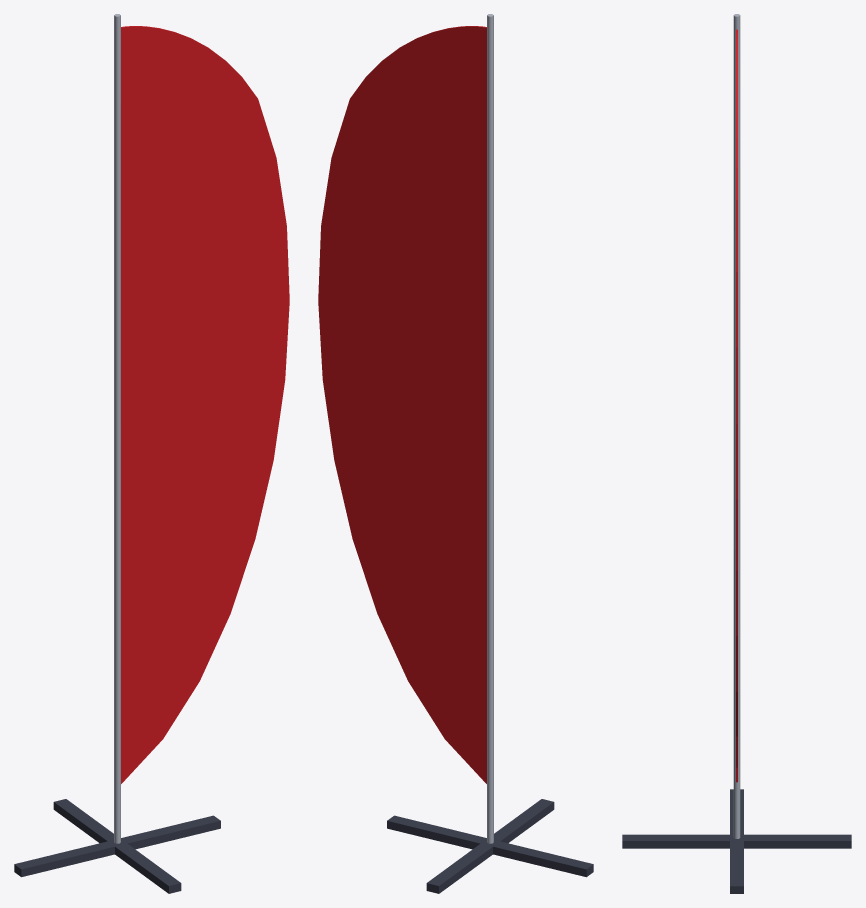
File: evt-006.glb
The picture shows the model from 3 angles, left to right: view 1: azimuth 30°, elevation 25°; view 2: azimuth 150°, elevation 25°; view 3: azimuth 270°, elevation 25°; orthographic projection.
Parts seen in each view (by area): view 1: accent_red, steel, dark_steel; view 2: accent_red, steel, dark_steel; view 3: steel, dark_steel, accent_red.
Part boxes in pixels (x1,y1,x2,y2): accent_red: (121,26,289,783); steel: (114,14,120,843); dark_steel: (14,799,220,893); accent_red: (318,26,486,783); steel: (487,14,493,843); dark_steel: (387,799,593,893); steel: (733,14,740,838); dark_steel: (622,789,851,893); accent_red: (736,29,737,782).
Bounding box in the file's own units: 1.09 × 3.2 × 0.8.
